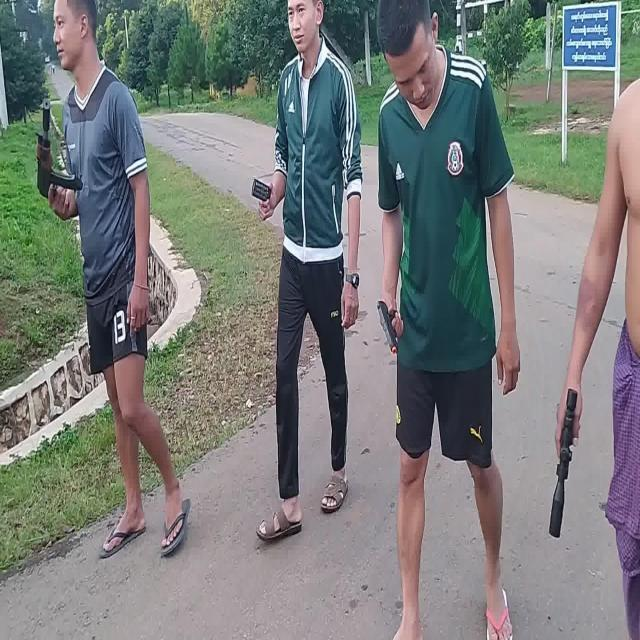gun: (37, 100, 83, 198), (377, 301, 397, 354)
